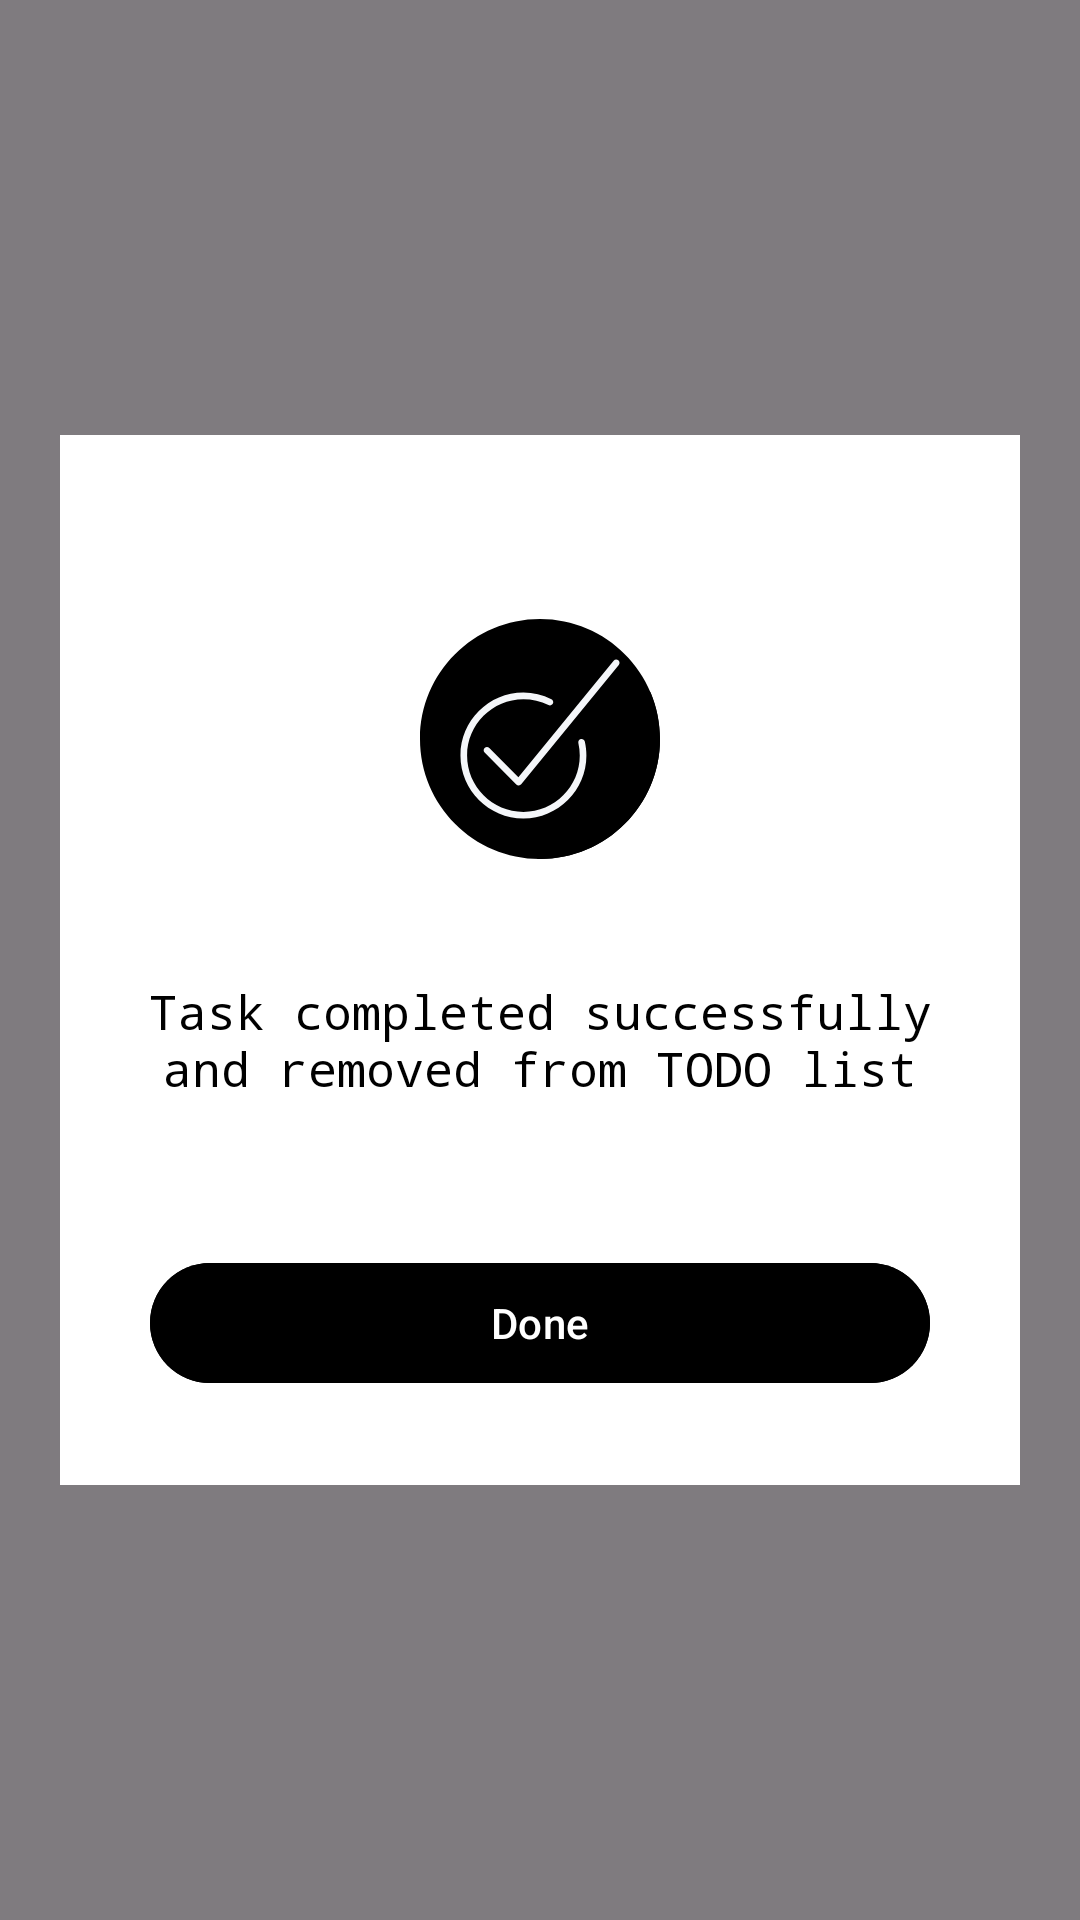

Named icons in this screenshot (1080 × 1920) and their bounding boxes, (x1, y1, x2, y2):
checked success: (420, 619, 660, 859)
